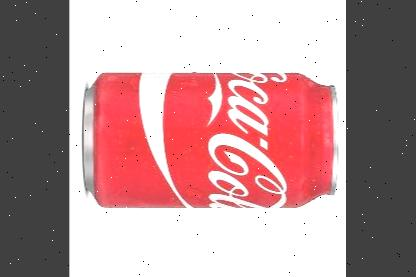Can: (82, 70, 342, 210)
